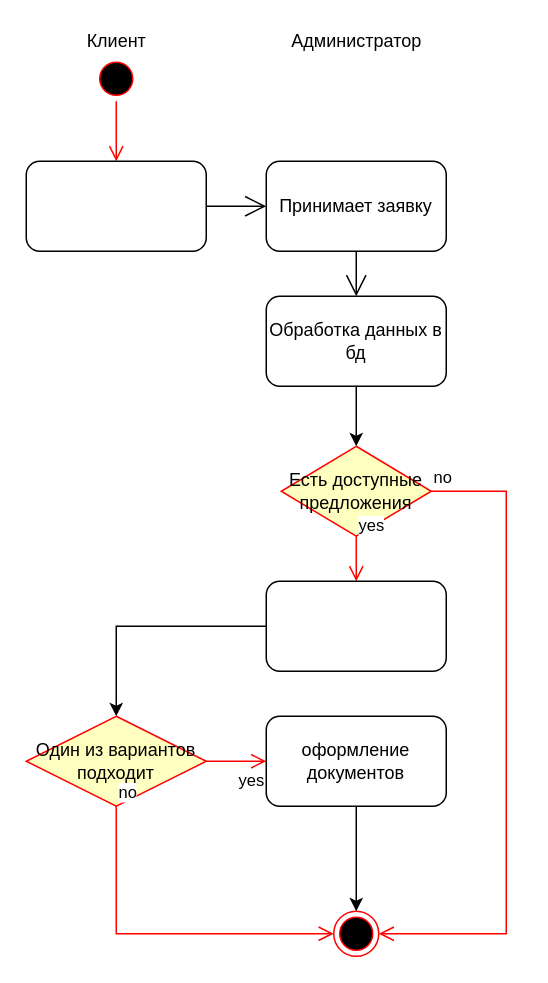
The diagram is 548 pixels wide and 983 high, and some of its shapes have lost their labels. The shapes that lost their labels are listed below. From the top down, each one's centre as x and y in pixels, then its label:
At (x=115, y=205): "подача заявки".
At (x=355, y=625): "Обзор вариантов для аренды / бронирования".
